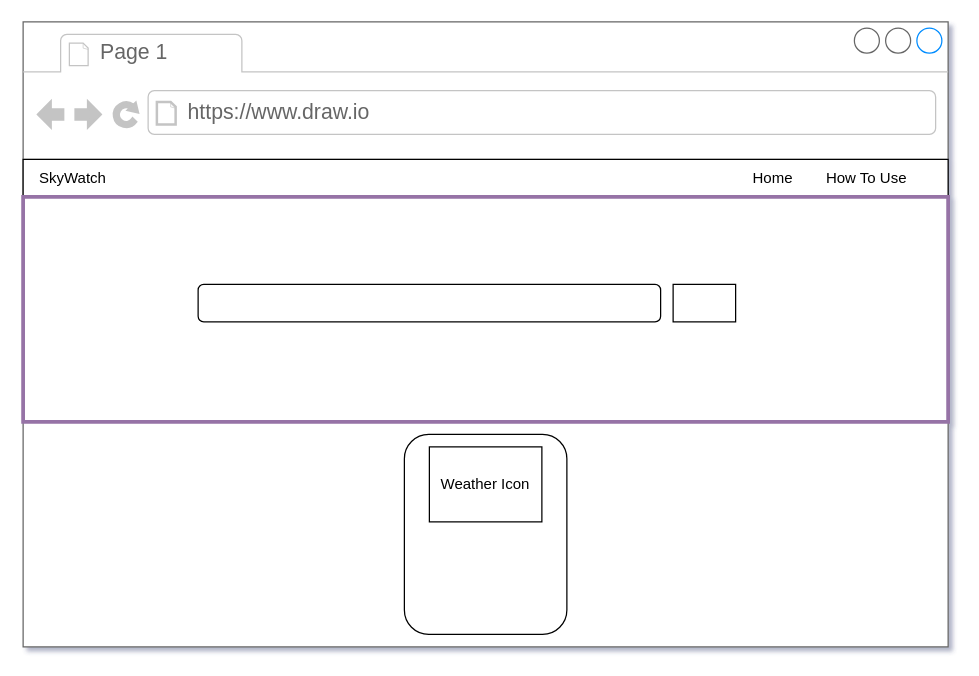
This 979x676 diagram has some shape labels left out. The shapes that lost their labels are listed below. From the top down, each one's box as (x1, y1, x2, y2) in pixels, then its label:
(197, 283, 661, 322): Enter a city here
(403, 433, 567, 634): Temperature
